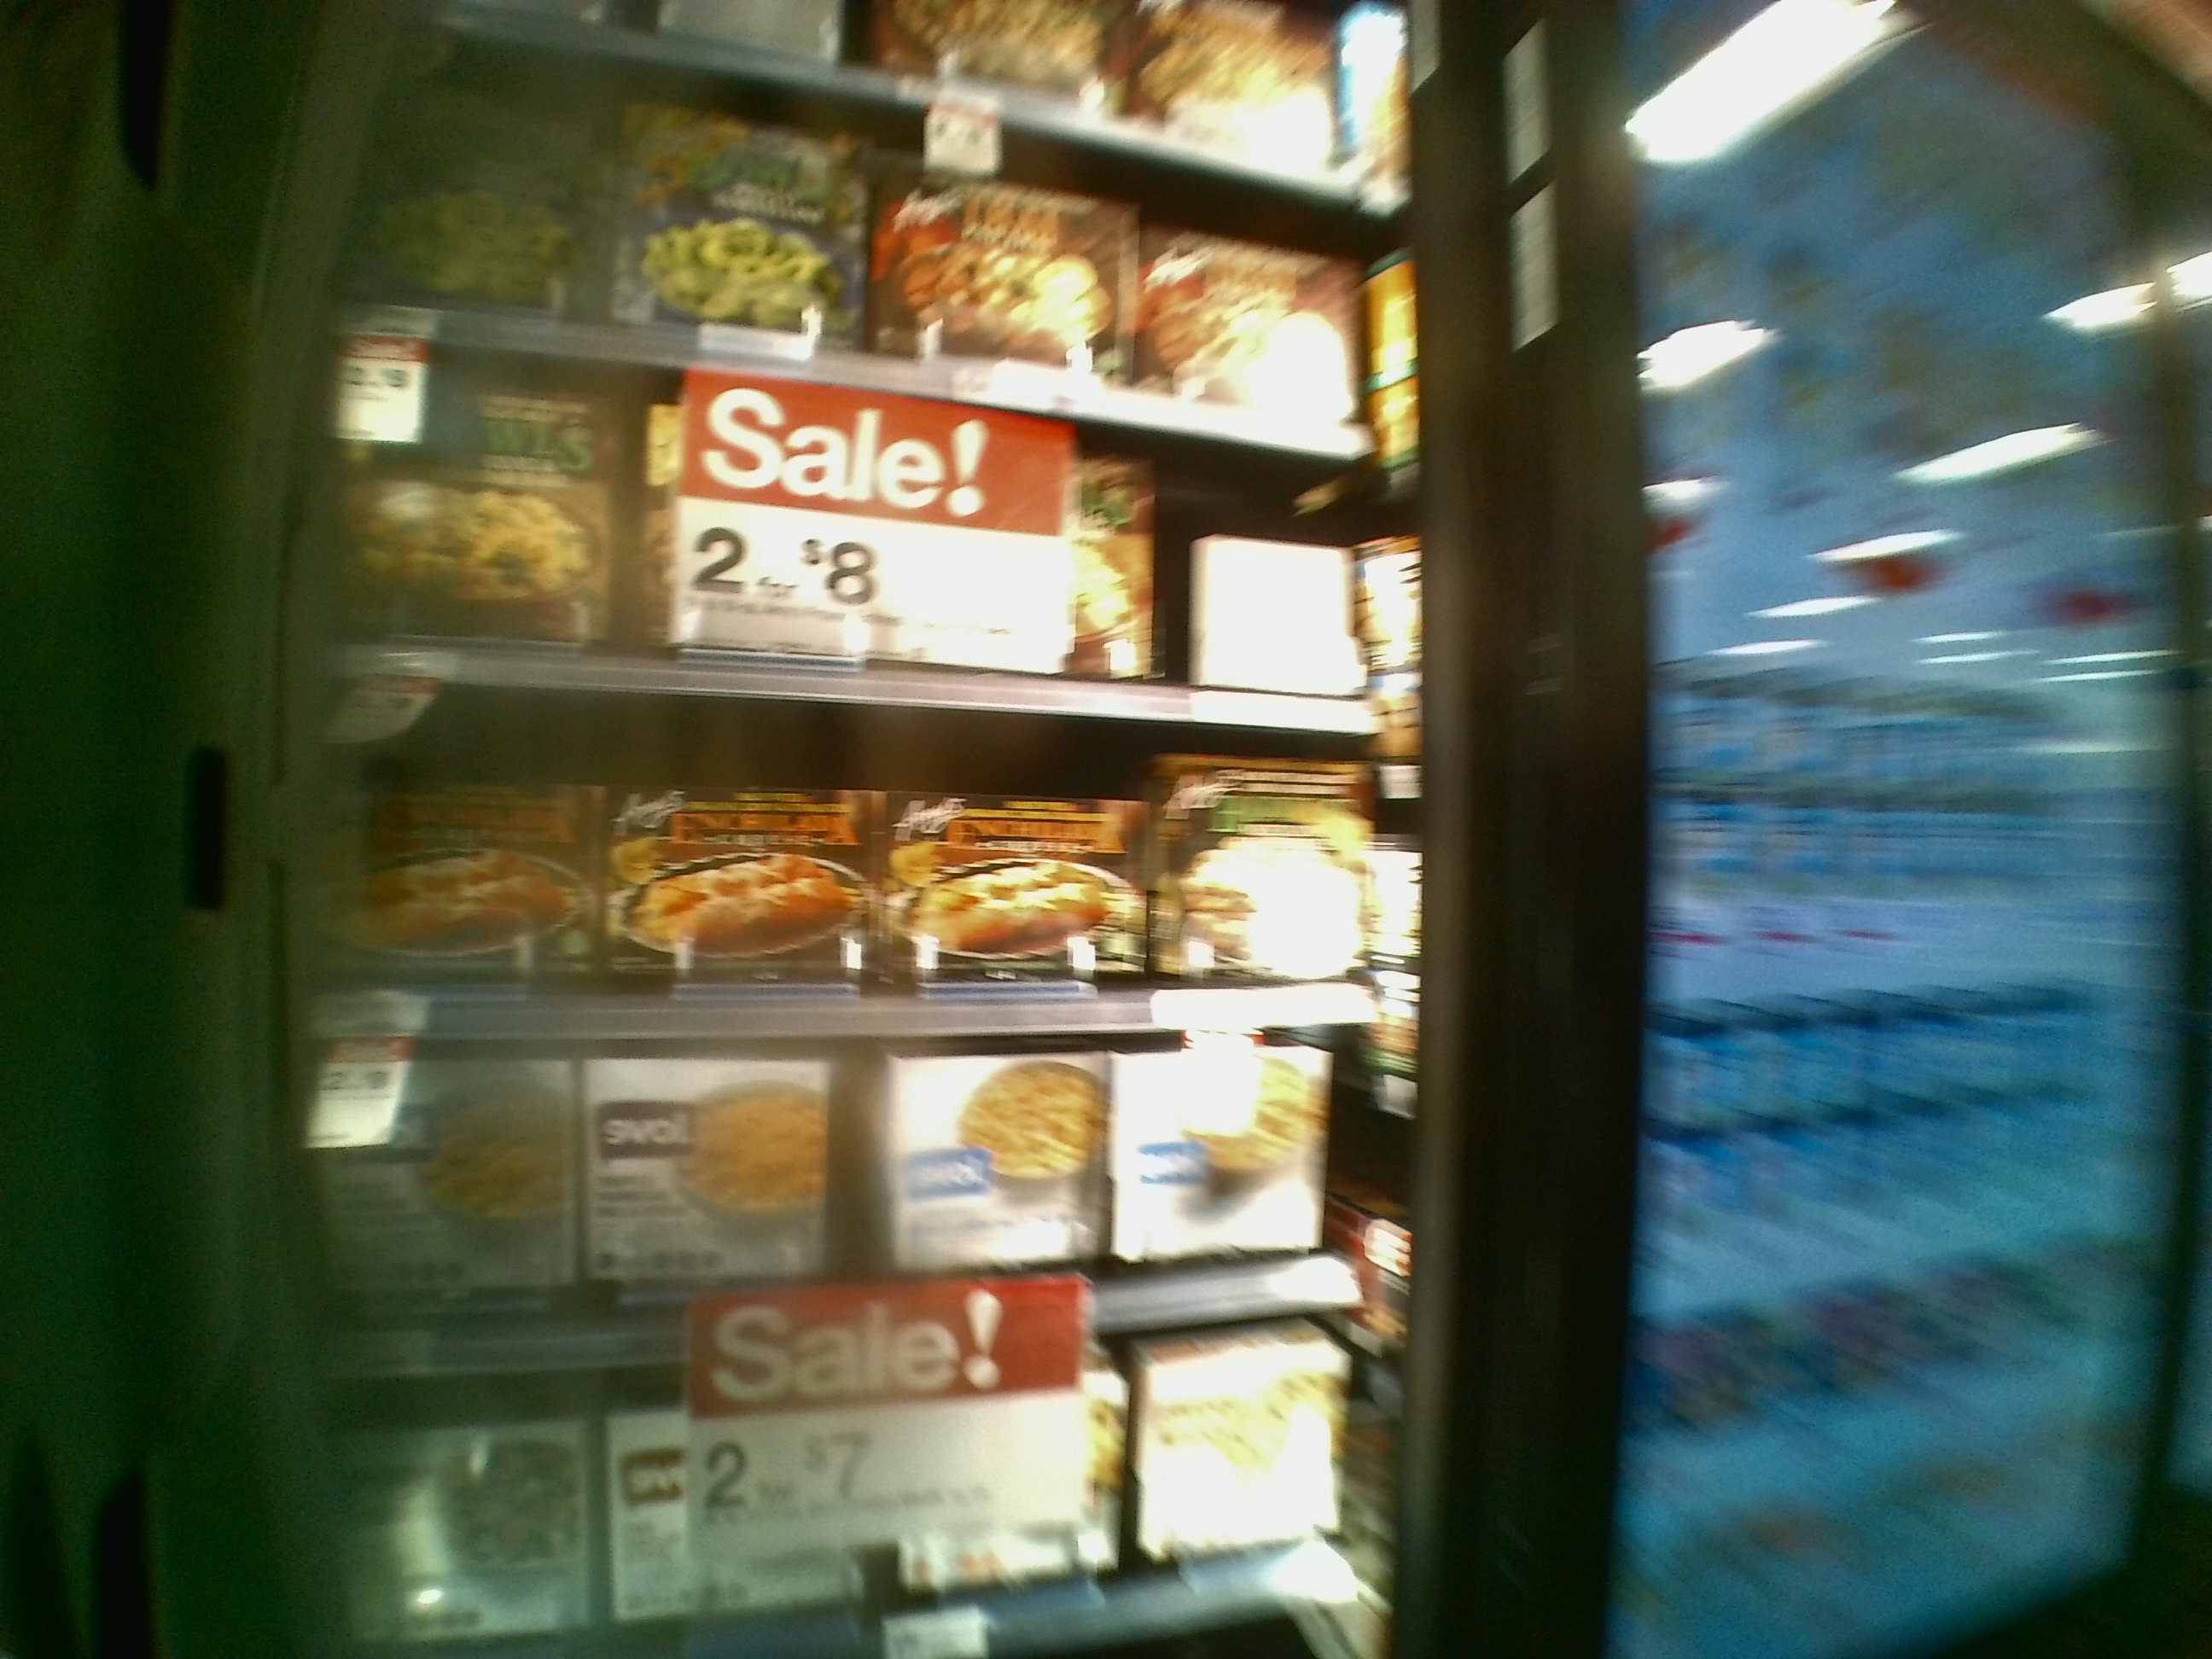shelf: (314, 390, 1409, 713), (319, 720, 1402, 1025), (331, 1042, 1359, 1363), (345, 113, 1407, 406)
